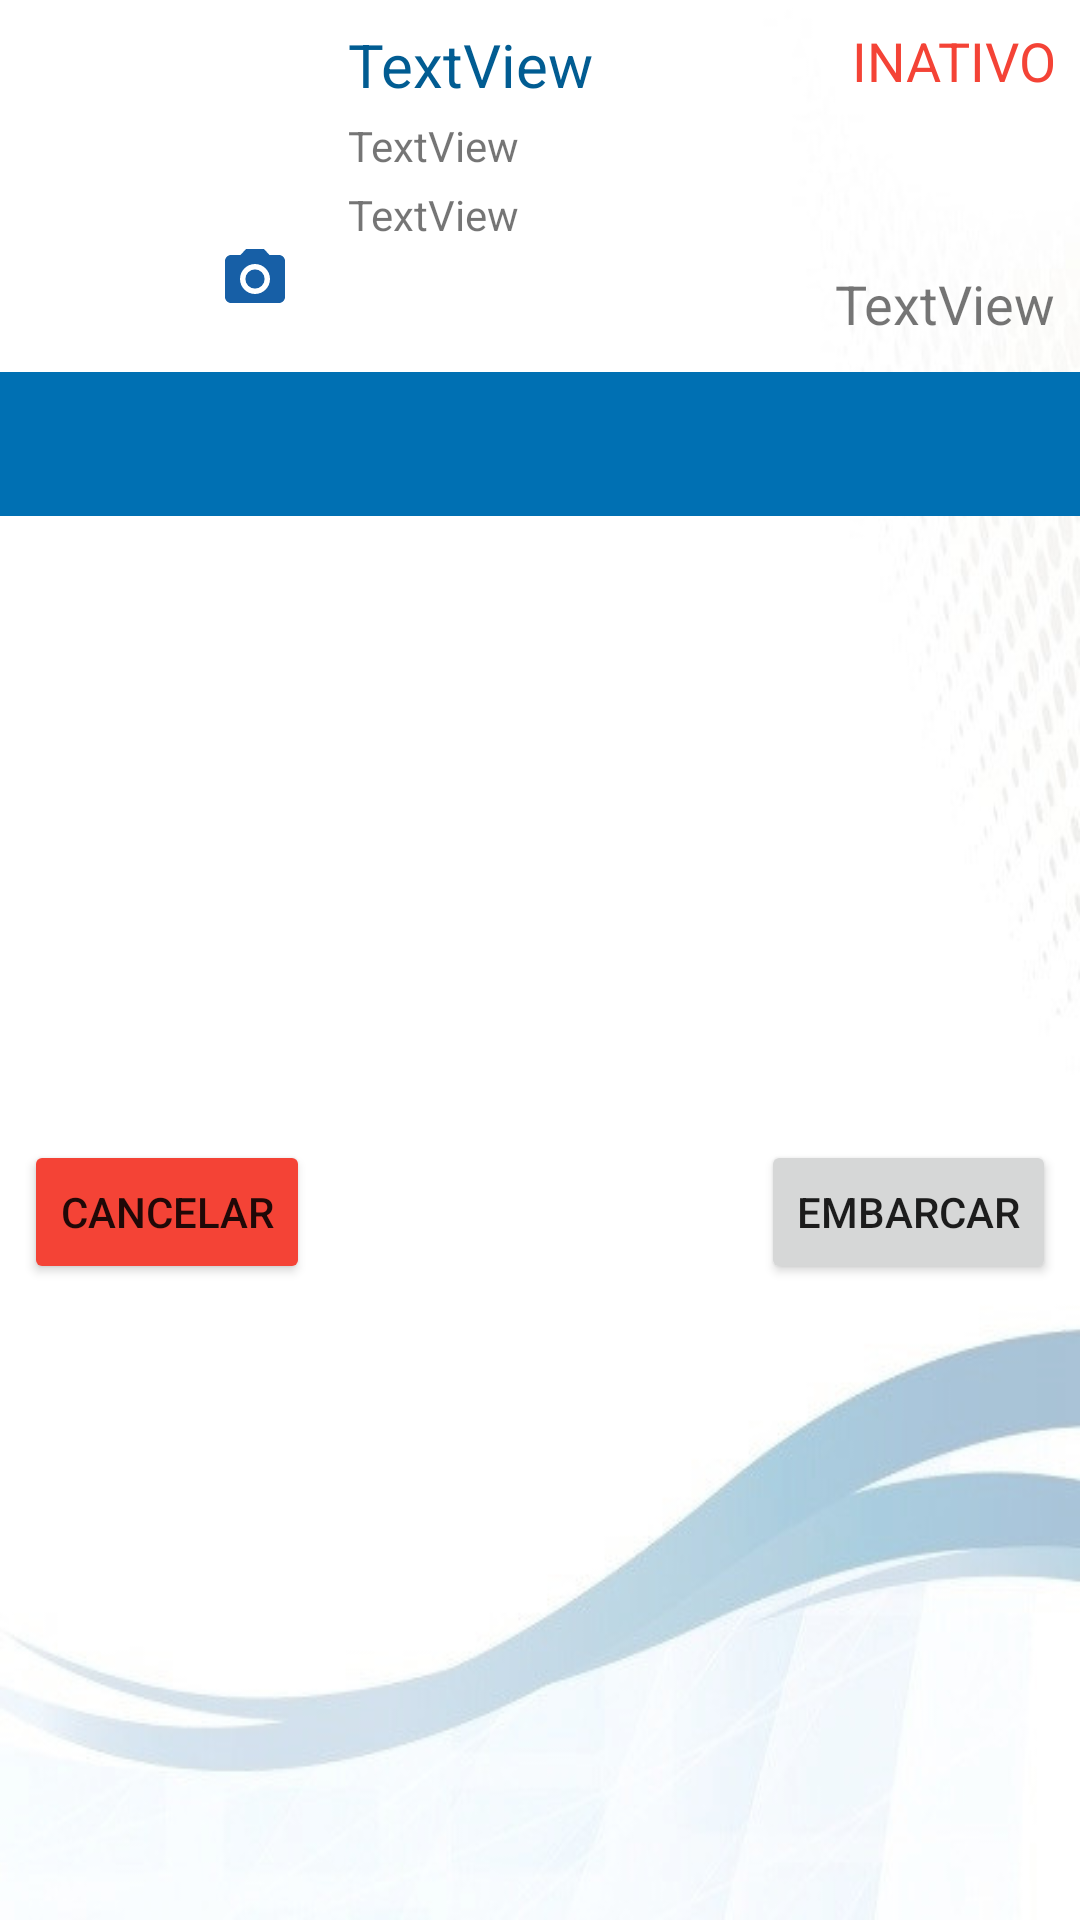

Icon click points for this 1080*1920 phone screenshot, format (x=x, y=y):
camera: (x=255, y=276)
